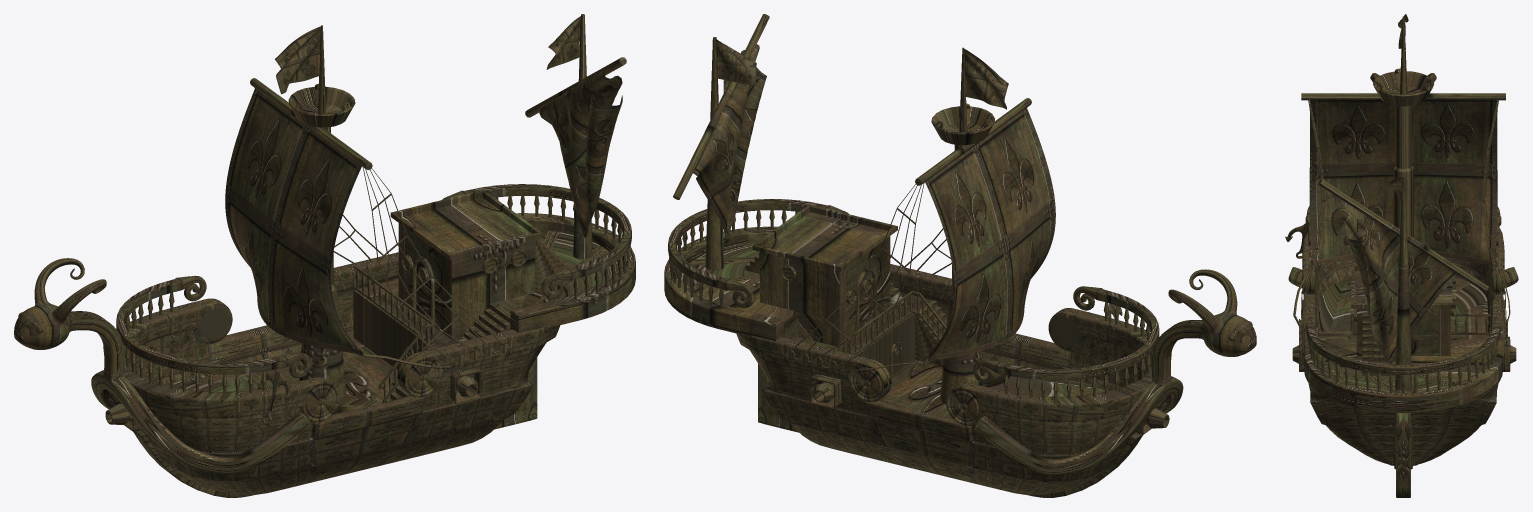
File: Going Merry_001.glb
The picture shows the model from 3 angles, left to right: view 1: azimuth 30°, elevation 25°; view 2: azimuth 150°, elevation 25°; view 3: azimuth 270°, elevation 25°; orthographic projection. The views are drawn at different scales.
Parts seen in each view (by area): view 1: Going Merry; view 2: Going Merry; view 3: Going Merry.
Boxes of the visible parts, box(x1,y1,x2,y2) form: Going Merry: box(14, 14, 635, 497); Going Merry: box(664, 14, 1256, 497); Going Merry: box(1285, 14, 1518, 497).
Size of the model in its own units: 21.2 by 15.02 by 8.02.
Materials: 1 (1 with a texture image).
